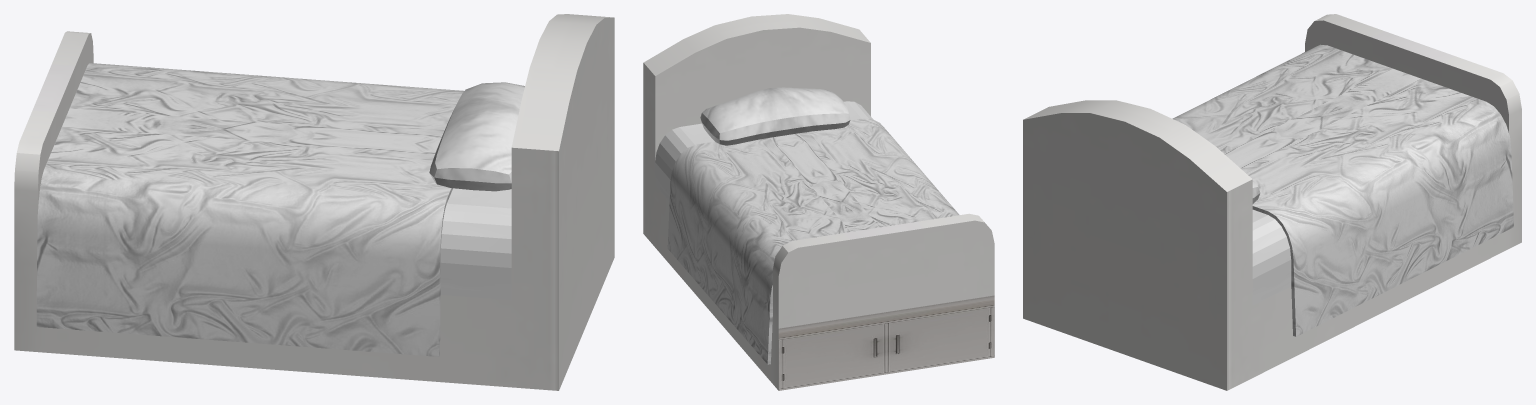
3 renders of one model, left to right at view 1: azimuth 30°, elevation 25°; view 2: azimuth 150°, elevation 25°; view 3: azimuth 270°, elevation 25°, orthographic. The views are drawn at different scales.
Parts seen in each view (by area): view 1: bed005_fabric_wrinkles_0, bed006_closet_hc_0, bed007_fabric_wrinkles_0, bed004_fabric_wrinkles_0; view 2: bed006_closet_hc_0, bed005_fabric_wrinkles_0, bed007_fabric_wrinkles_0, bed004_fabric_wrinkles_0; view 3: bed006_closet_hc_0, bed005_fabric_wrinkles_0, bed004_fabric_wrinkles_0.
Boxes of the visible parts, x1,y1,x2,y2 form: bed005_fabric_wrinkles_0: (36, 63, 463, 356); bed006_closet_hc_0: (14, 14, 614, 390); bed007_fabric_wrinkles_0: (429, 82, 524, 191); bed004_fabric_wrinkles_0: (440, 188, 511, 300); bed006_closet_hc_0: (643, 14, 994, 390); bed005_fabric_wrinkles_0: (667, 118, 959, 364); bed007_fabric_wrinkles_0: (700, 87, 850, 145); bed004_fabric_wrinkles_0: (655, 101, 872, 321); bed006_closet_hc_0: (1023, 14, 1521, 390); bed005_fabric_wrinkles_0: (1172, 44, 1513, 336); bed004_fabric_wrinkles_0: (1252, 209, 1291, 305).
Bounding box in the file's own units: 2.62 × 1.29 × 2.5.
Materials: 2 (2 with a texture image).
